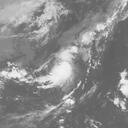cyclone: (45, 60, 74, 89)
